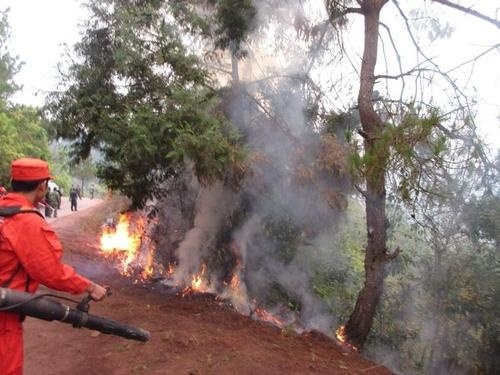fire: (180, 254, 288, 327), (97, 209, 164, 282), (333, 321, 357, 350)
